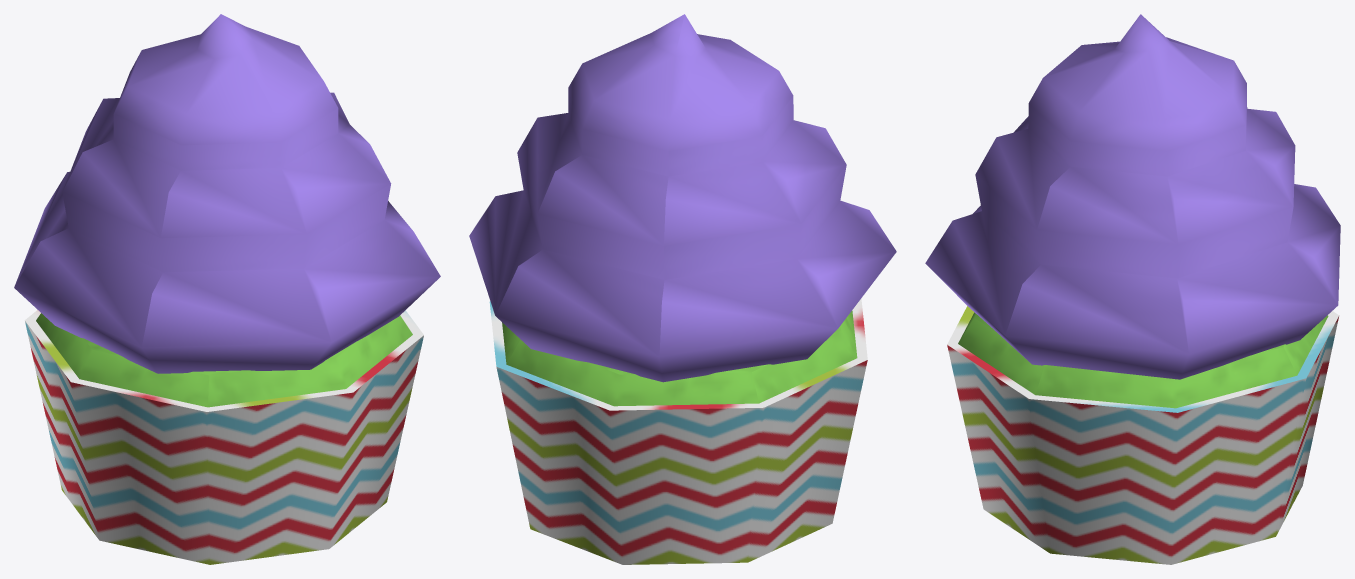
File: Cupcake_A_19.FBX
3 renders of one model, left to right at view 1: azimuth 30°, elevation 25°; view 2: azimuth 150°, elevation 25°; view 3: azimuth 270°, elevation 25°, orthographic.
Visible parts, largest first — view 1: Cupcake; view 2: Cupcake; view 3: Cupcake.
Boxes of the visible parts, left/top/right/bottom form: Cupcake: left=14, top=14, right=440, bottom=564; Cupcake: left=469, top=14, right=896, bottom=564; Cupcake: left=925, top=14, right=1340, bottom=564.
Size of the model in its own units: 34.42 by 43.01 by 33.65.
